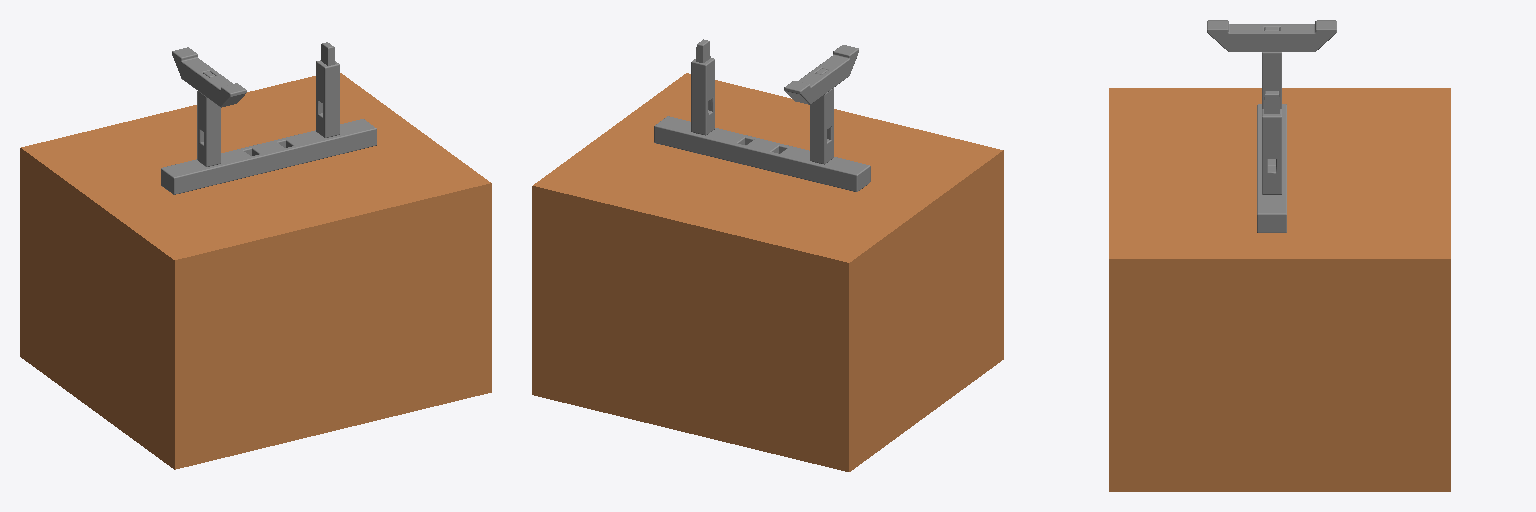
The robot description file, URDF, robot "table_beam_2x_1_scene_0070":
<?xml version="1.0"?>
<robot name="table_beam_2x_1_scene_0070">
  <link name="box">
    <visual>
      <material name="wood"><color rgba="0.82 0.56 0.35 1.0"/></material>
      <origin xyz="0 0 0"/>
      <geometry><box size="0.475 0.4 0.3"/></geometry>
    </visual>
    <collision>
      <origin xyz="0 0 0"/>
      <geometry><box size="0.475 0.4 0.3"/></geometry>
    </collision>
    <inertial>
      <mass value="500"/>
      <friction value="1.0"/>
      <inertia ixx="1000.0" ixy="0.0" ixz="0.0" iyy="1000.0" iyz="0.0" izz="1000.0"/>
    </inertial>
  </link>
  <link name="part_6_canonical">
    <visual>
      <origin xyz="0 0 0" rpy="0 0 0"/>
      <geometry><mesh filename="../../6/6_canonical.obj" scale="1 1 1"/></geometry>
      <material name="placed_0"><color rgba="0.6 0.6 0.6 1.0"/></material>
    </visual>
    <collision>
      <origin xyz="0 0 0" rpy="0 0 0"/>
      <geometry><mesh filename="../../6/6_canonical.obj" scale="1 1 1"/></geometry>
    </collision>
  </link>
  <joint name="part_6_canonical_joint" type="fixed">
    <parent link="box"/>
    <child link="part_6_canonical"/>
    <origin xyz="0.013686 -0.009295 0.162666" rpy="0.000000 0.000000 0.000000"/>
  </joint>
  <link name="part_2_canonical">
    <visual>
      <origin xyz="0 0 0" rpy="0 0 0"/>
      <geometry><mesh filename="../../2/2_canonical.obj" scale="1 1 1"/></geometry>
      <material name="placed_1"><color rgba="0.6 0.6 0.6 1.0"/></material>
    </visual>
    <collision>
      <origin xyz="0 0 0" rpy="0 0 0"/>
      <geometry><mesh filename="../../2/2_canonical.obj" scale="1 1 1"/></geometry>
    </collision>
  </link>
  <joint name="part_2_canonical_joint" type="fixed">
    <parent link="box"/>
    <child link="part_2_canonical"/>
    <origin xyz="-0.075241 -0.009295 0.225384" rpy="0.000000 -1.570796 0.000000"/>
  </joint>
  <link name="part_0_canonical">
    <visual>
      <origin xyz="0 0 0" rpy="0 0 0"/>
      <geometry><mesh filename="../../0/0_canonical.obj" scale="1 1 1"/></geometry>
      <material name="placed_2"><color rgba="0.6 0.6 0.6 1.0"/></material>
    </visual>
    <collision>
      <origin xyz="0 0 0" rpy="0 0 0"/>
      <geometry><mesh filename="../../0/0_canonical.obj" scale="1 1 1"/></geometry>
    </collision>
  </link>
  <joint name="part_0_canonical_joint" type="fixed">
    <parent link="box"/>
    <child link="part_0_canonical"/>
    <origin xyz="-0.075214 -0.009295 0.292243" rpy="1.570796 0.000000 -1.570796"/>
  </joint>
  <link name="part_3_hull_0">
    <visual>
      <origin xyz="0 0 0" rpy="0 0 0"/>
      <geometry><mesh filename="../../3/coacd/decomp_0.obj" scale="1 1 1"/></geometry>
      <material name="placed_3"><color rgba="0.6 0.6 0.6 1.0"/></material>
    </visual>
    <collision>
      <origin xyz="0 0 0" rpy="0 0 0"/>
      <geometry><mesh filename="../../3/coacd/decomp_0.obj" scale="1 1 1"/></geometry>
    </collision>
  </link>
  <joint name="part_3_hull_0_joint" type="fixed">
    <parent link="box"/>
    <child link="part_3_hull_0"/>
    <origin xyz="0.102613 -0.009295 0.225384" rpy="0.000000 -1.570796 0.000000"/>
  </joint>
  <link name="part_3_hull_1">
    <visual>
      <origin xyz="0 0 0" rpy="0 0 0"/>
      <geometry><mesh filename="../../3/coacd/decomp_1.obj" scale="1 1 1"/></geometry>
      <material name="placed_4"><color rgba="0.6 0.6 0.6 1.0"/></material>
    </visual>
    <collision>
      <origin xyz="0 0 0" rpy="0 0 0"/>
      <geometry><mesh filename="../../3/coacd/decomp_1.obj" scale="1 1 1"/></geometry>
    </collision>
  </link>
  <joint name="part_3_hull_1_joint" type="fixed">
    <parent link="box"/>
    <child link="part_3_hull_1"/>
    <origin xyz="0.102613 -0.009295 0.225384" rpy="0.000000 -1.570796 0.000000"/>
  </joint>
  <link name="part_3_hull_2">
    <visual>
      <origin xyz="0 0 0" rpy="0 0 0"/>
      <geometry><mesh filename="../../3/coacd/decomp_10.obj" scale="1 1 1"/></geometry>
      <material name="placed_5"><color rgba="0.6 0.6 0.6 1.0"/></material>
    </visual>
    <collision>
      <origin xyz="0 0 0" rpy="0 0 0"/>
      <geometry><mesh filename="../../3/coacd/decomp_10.obj" scale="1 1 1"/></geometry>
    </collision>
  </link>
  <joint name="part_3_hull_2_joint" type="fixed">
    <parent link="box"/>
    <child link="part_3_hull_2"/>
    <origin xyz="0.102613 -0.009295 0.225384" rpy="0.000000 -1.570796 0.000000"/>
  </joint>
  <link name="part_3_hull_3">
    <visual>
      <origin xyz="0 0 0" rpy="0 0 0"/>
      <geometry><mesh filename="../../3/coacd/decomp_11.obj" scale="1 1 1"/></geometry>
      <material name="placed_6"><color rgba="0.6 0.6 0.6 1.0"/></material>
    </visual>
    <collision>
      <origin xyz="0 0 0" rpy="0 0 0"/>
      <geometry><mesh filename="../../3/coacd/decomp_11.obj" scale="1 1 1"/></geometry>
    </collision>
  </link>
  <joint name="part_3_hull_3_joint" type="fixed">
    <parent link="box"/>
    <child link="part_3_hull_3"/>
    <origin xyz="0.102613 -0.009295 0.225384" rpy="0.000000 -1.570796 0.000000"/>
  </joint>
  <link name="part_3_hull_4">
    <visual>
      <origin xyz="0 0 0" rpy="0 0 0"/>
      <geometry><mesh filename="../../3/coacd/decomp_12.obj" scale="1 1 1"/></geometry>
      <material name="placed_7"><color rgba="0.6 0.6 0.6 1.0"/></material>
    </visual>
    <collision>
      <origin xyz="0 0 0" rpy="0 0 0"/>
      <geometry><mesh filename="../../3/coacd/decomp_12.obj" scale="1 1 1"/></geometry>
    </collision>
  </link>
  <joint name="part_3_hull_4_joint" type="fixed">
    <parent link="box"/>
    <child link="part_3_hull_4"/>
    <origin xyz="0.102613 -0.009295 0.225384" rpy="0.000000 -1.570796 0.000000"/>
  </joint>
  <link name="part_3_hull_5">
    <visual>
      <origin xyz="0 0 0" rpy="0 0 0"/>
      <geometry><mesh filename="../../3/coacd/decomp_2.obj" scale="1 1 1"/></geometry>
      <material name="placed_8"><color rgba="0.6 0.6 0.6 1.0"/></material>
    </visual>
    <collision>
      <origin xyz="0 0 0" rpy="0 0 0"/>
      <geometry><mesh filename="../../3/coacd/decomp_2.obj" scale="1 1 1"/></geometry>
    </collision>
  </link>
  <joint name="part_3_hull_5_joint" type="fixed">
    <parent link="box"/>
    <child link="part_3_hull_5"/>
    <origin xyz="0.102613 -0.009295 0.225384" rpy="0.000000 -1.570796 0.000000"/>
  </joint>
  <link name="part_3_hull_6">
    <visual>
      <origin xyz="0 0 0" rpy="0 0 0"/>
      <geometry><mesh filename="../../3/coacd/decomp_3.obj" scale="1 1 1"/></geometry>
      <material name="placed_9"><color rgba="0.6 0.6 0.6 1.0"/></material>
    </visual>
    <collision>
      <origin xyz="0 0 0" rpy="0 0 0"/>
      <geometry><mesh filename="../../3/coacd/decomp_3.obj" scale="1 1 1"/></geometry>
    </collision>
  </link>
  <joint name="part_3_hull_6_joint" type="fixed">
    <parent link="box"/>
    <child link="part_3_hull_6"/>
    <origin xyz="0.102613 -0.009295 0.225384" rpy="0.000000 -1.570796 0.000000"/>
  </joint>
  <link name="part_3_hull_7">
    <visual>
      <origin xyz="0 0 0" rpy="0 0 0"/>
      <geometry><mesh filename="../../3/coacd/decomp_4.obj" scale="1 1 1"/></geometry>
      <material name="placed_10"><color rgba="0.6 0.6 0.6 1.0"/></material>
    </visual>
    <collision>
      <origin xyz="0 0 0" rpy="0 0 0"/>
      <geometry><mesh filename="../../3/coacd/decomp_4.obj" scale="1 1 1"/></geometry>
    </collision>
  </link>
  <joint name="part_3_hull_7_joint" type="fixed">
    <parent link="box"/>
    <child link="part_3_hull_7"/>
    <origin xyz="0.102613 -0.009295 0.225384" rpy="0.000000 -1.570796 0.000000"/>
  </joint>
  <link name="part_3_hull_8">
    <visual>
      <origin xyz="0 0 0" rpy="0 0 0"/>
      <geometry><mesh filename="../../3/coacd/decomp_5.obj" scale="1 1 1"/></geometry>
      <material name="placed_11"><color rgba="0.6 0.6 0.6 1.0"/></material>
    </visual>
    <collision>
      <origin xyz="0 0 0" rpy="0 0 0"/>
      <geometry><mesh filename="../../3/coacd/decomp_5.obj" scale="1 1 1"/></geometry>
    </collision>
  </link>
  <joint name="part_3_hull_8_joint" type="fixed">
    <parent link="box"/>
    <child link="part_3_hull_8"/>
    <origin xyz="0.102613 -0.009295 0.225384" rpy="0.000000 -1.570796 0.000000"/>
  </joint>
  <link name="part_3_hull_9">
    <visual>
      <origin xyz="0 0 0" rpy="0 0 0"/>
      <geometry><mesh filename="../../3/coacd/decomp_6.obj" scale="1 1 1"/></geometry>
      <material name="placed_12"><color rgba="0.6 0.6 0.6 1.0"/></material>
    </visual>
    <collision>
      <origin xyz="0 0 0" rpy="0 0 0"/>
      <geometry><mesh filename="../../3/coacd/decomp_6.obj" scale="1 1 1"/></geometry>
    </collision>
  </link>
  <joint name="part_3_hull_9_joint" type="fixed">
    <parent link="box"/>
    <child link="part_3_hull_9"/>
    <origin xyz="0.102613 -0.009295 0.225384" rpy="0.000000 -1.570796 0.000000"/>
  </joint>
  <link name="part_3_hull_10">
    <visual>
      <origin xyz="0 0 0" rpy="0 0 0"/>
      <geometry><mesh filename="../../3/coacd/decomp_7.obj" scale="1 1 1"/></geometry>
      <material name="placed_13"><color rgba="0.6 0.6 0.6 1.0"/></material>
    </visual>
    <collision>
      <origin xyz="0 0 0" rpy="0 0 0"/>
      <geometry><mesh filename="../../3/coacd/decomp_7.obj" scale="1 1 1"/></geometry>
    </collision>
  </link>
  <joint name="part_3_hull_10_joint" type="fixed">
    <parent link="box"/>
    <child link="part_3_hull_10"/>
    <origin xyz="0.102613 -0.009295 0.225384" rpy="0.000000 -1.570796 0.000000"/>
  </joint>
  <link name="part_3_hull_11">
    <visual>
      <origin xyz="0 0 0" rpy="0 0 0"/>
      <geometry><mesh filename="../../3/coacd/decomp_8.obj" scale="1 1 1"/></geometry>
      <material name="placed_14"><color rgba="0.6 0.6 0.6 1.0"/></material>
    </visual>
    <collision>
      <origin xyz="0 0 0" rpy="0 0 0"/>
      <geometry><mesh filename="../../3/coacd/decomp_8.obj" scale="1 1 1"/></geometry>
    </collision>
  </link>
  <joint name="part_3_hull_11_joint" type="fixed">
    <parent link="box"/>
    <child link="part_3_hull_11"/>
    <origin xyz="0.102613 -0.009295 0.225384" rpy="0.000000 -1.570796 0.000000"/>
  </joint>
  <link name="part_3_hull_12">
    <visual>
      <origin xyz="0 0 0" rpy="0 0 0"/>
      <geometry><mesh filename="../../3/coacd/decomp_9.obj" scale="1 1 1"/></geometry>
      <material name="placed_15"><color rgba="0.6 0.6 0.6 1.0"/></material>
    </visual>
    <collision>
      <origin xyz="0 0 0" rpy="0 0 0"/>
      <geometry><mesh filename="../../3/coacd/decomp_9.obj" scale="1 1 1"/></geometry>
    </collision>
  </link>
  <joint name="part_3_hull_12_joint" type="fixed">
    <parent link="box"/>
    <child link="part_3_hull_12"/>
    <origin xyz="0.102613 -0.009295 0.225384" rpy="0.000000 -1.570796 0.000000"/>
  </joint>
</robot>

--- Facts derived from the render (not from the file) ---
3 views of the same robot in one strip: view 1: azimuth 30°, elevation 25°; view 2: azimuth 150°, elevation 25°; view 3: azimuth 270°, elevation 25° (orthographic).
Model table_beam_2x_1_scene_0070 with 17 links and 16 joints (16 fixed), rooted at box, posed every joint at zero.
Visible links, largest first — view 1: box, part_6_canonical, part_0_canonical, part_2_canonical; view 2: box, part_6_canonical, part_0_canonical, part_2_canonical; view 3: box, part_0_canonical, part_6_canonical, part_2_canonical, part_3_hull_0.
Link boxes in pixels (x1,y1,x2,y2): box: (20, 73, 491, 469); part_6_canonical: (161, 119, 376, 194); part_0_canonical: (172, 47, 246, 107); part_2_canonical: (197, 71, 220, 166); box: (532, 73, 1003, 471); part_6_canonical: (654, 116, 870, 191); part_0_canonical: (784, 45, 858, 104); part_2_canonical: (810, 69, 833, 164); box: (1109, 88, 1450, 491); part_0_canonical: (1207, 20, 1336, 51); part_6_canonical: (1257, 104, 1286, 232); part_2_canonical: (1262, 27, 1281, 108); part_3_hull_0: (1262, 114, 1281, 158).
Size in the robot's own frame: 0.475 by 0.4 by 0.4575 metres.
16 mesh visuals loaded from 16 distinct referenced files (16 OBJ).
